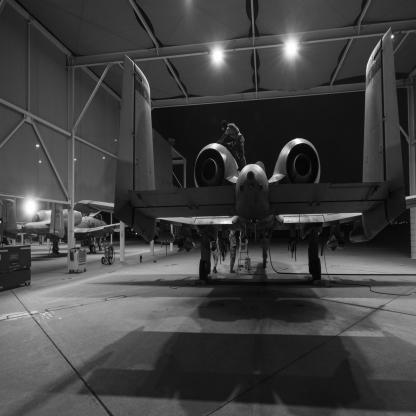A10: (74, 28, 416, 281), (1, 200, 130, 254)
